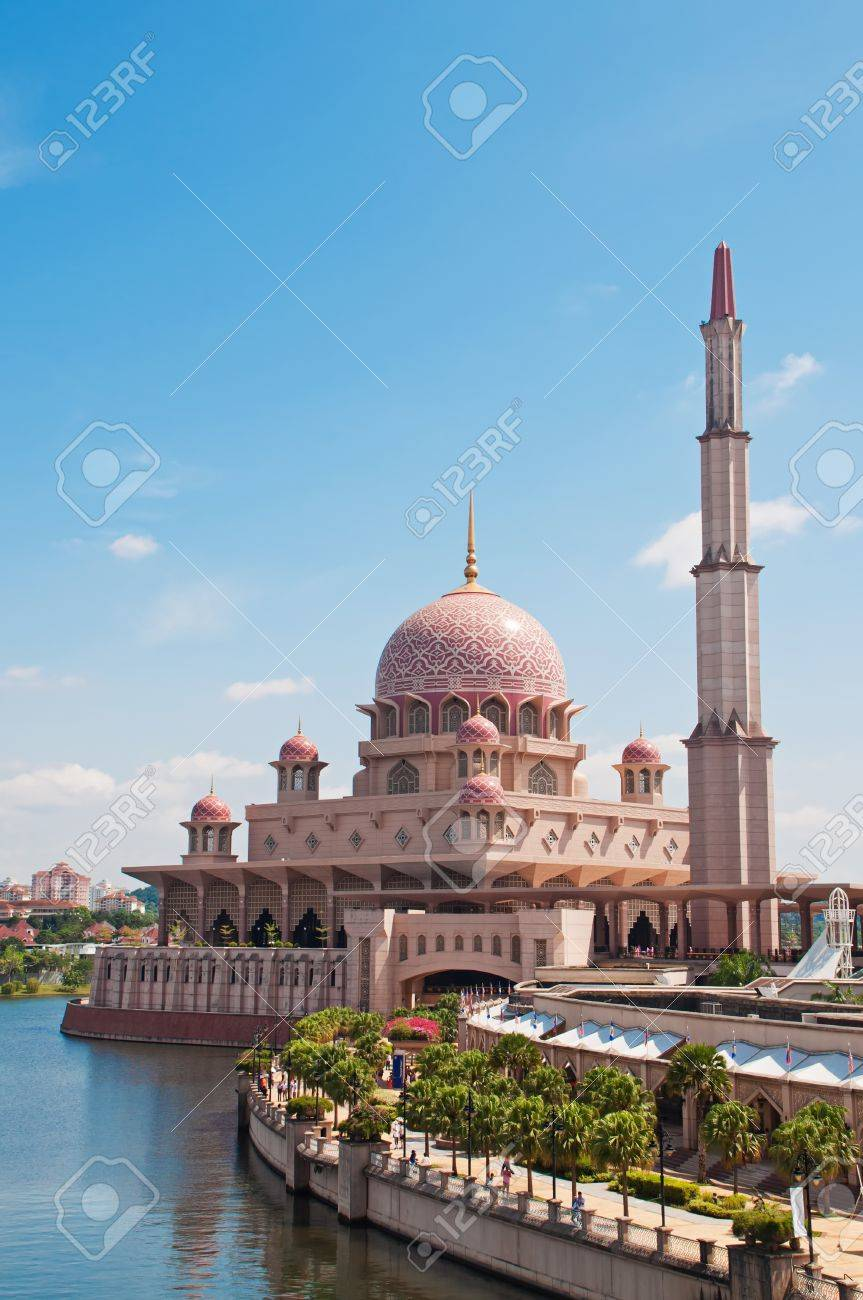Mosque: (95, 230, 784, 1028)
